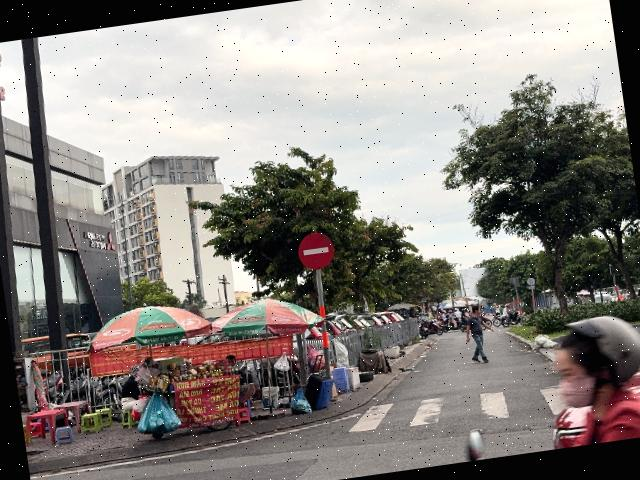cam-di-nguoc-chieu: (296, 229, 336, 271)
